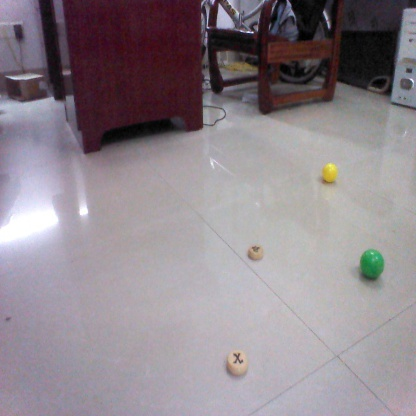ball: (358, 248, 387, 281), (322, 164, 340, 183)
chess: (244, 241, 268, 264), (229, 348, 248, 377)
